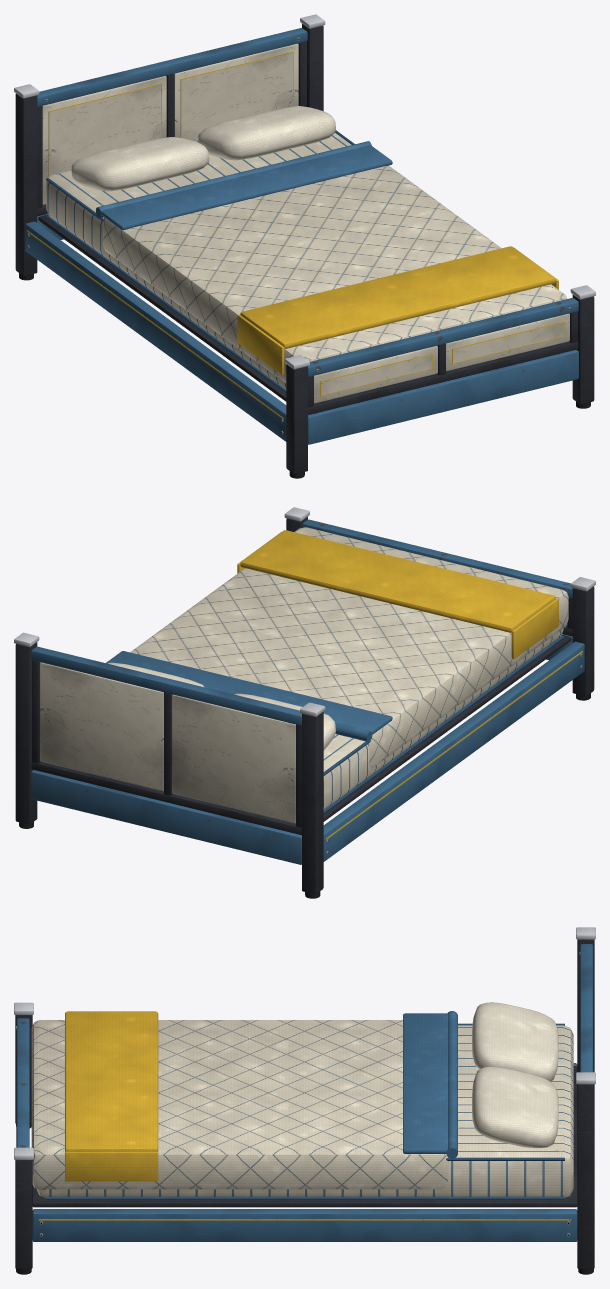
File: fancy_bed.glb
3 views of the same model, one above another, from view 1: azimuth 30°, elevation 25°; view 2: azimuth 150°, elevation 25°; view 3: azimuth 270°, elevation 25° (orthographic). The views are drawn at different scales.
Visible parts, largest first — view 1: Body; view 2: Body; view 3: Body.
Boxes of the visible parts, bbox=[...] form: Body: bbox=[14, 14, 595, 478]; Body: bbox=[14, 507, 595, 898]; Body: bbox=[14, 927, 595, 1274].
Bounding box in the file's own units: 1.24 × 0.738 × 1.99.
Materials: 14 (13 with a texture image).
